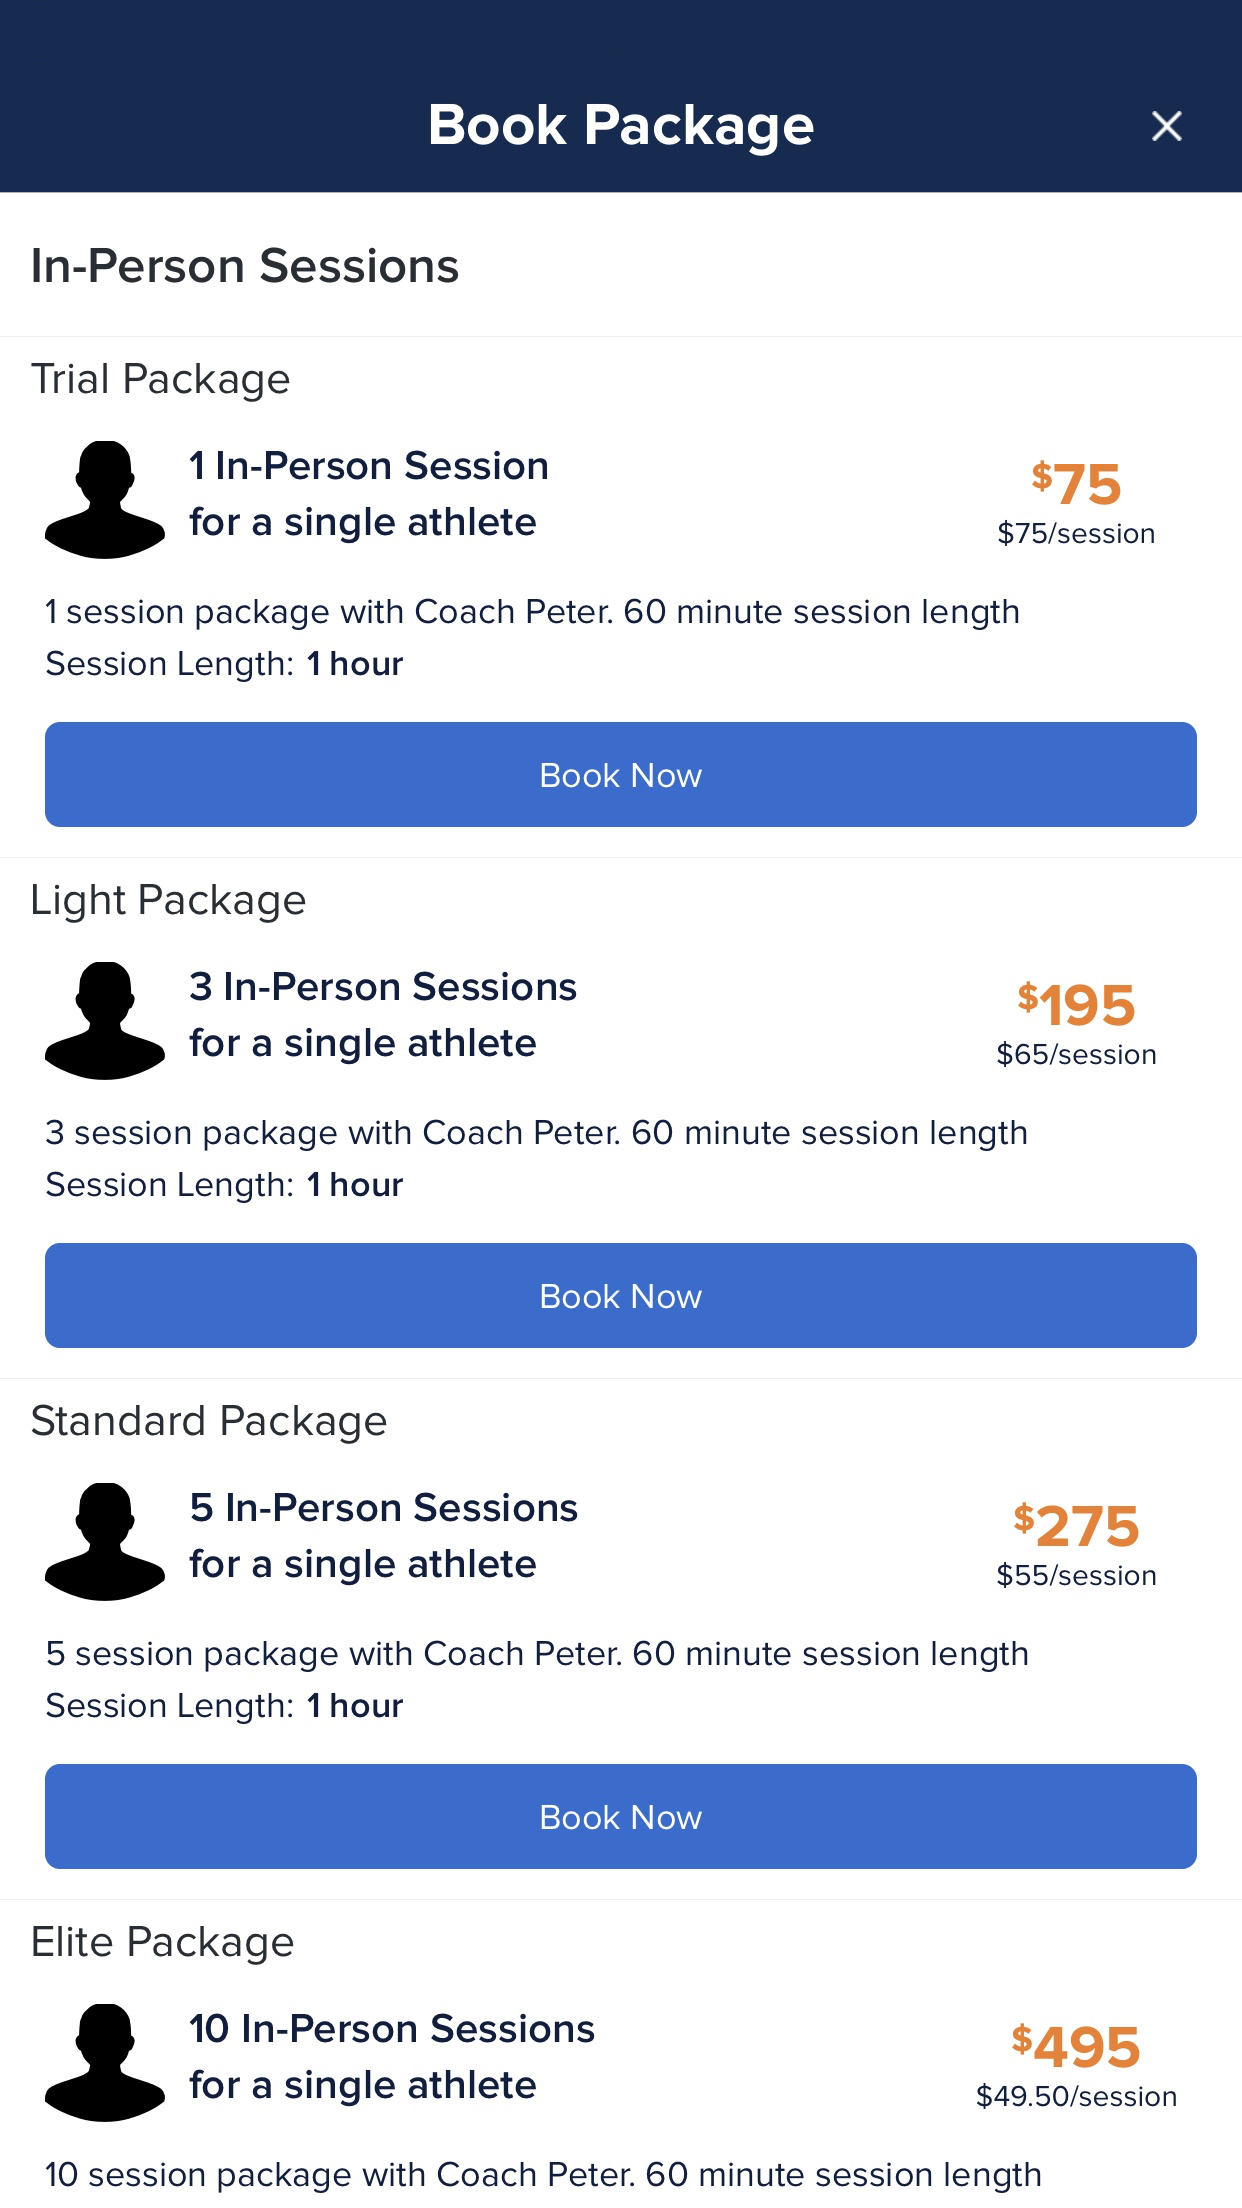Icon: (45, 2002, 168, 2123), (45, 441, 167, 561), (45, 961, 167, 1081), (45, 1482, 167, 1601), (1151, 111, 1183, 143)
Text: (45, 1639, 1028, 1726), (45, 1119, 1027, 1204), (45, 599, 1019, 684), (190, 2012, 594, 2106), (190, 1491, 579, 1586), (190, 971, 578, 1066), (45, 2161, 1040, 2194), (431, 105, 814, 158), (33, 247, 459, 284), (32, 1404, 388, 1445), (190, 507, 537, 544), (32, 884, 306, 925), (190, 450, 547, 481), (33, 1924, 296, 1965), (32, 362, 291, 403), (1011, 2021, 1140, 2068), (1013, 1501, 1139, 1548), (1018, 980, 1134, 1027), (977, 2082, 1177, 2109), (996, 1560, 1156, 1589), (996, 1040, 1156, 1068), (998, 520, 1156, 547), (1031, 459, 1121, 507)
TextButton: (45, 1764, 1200, 1870), (45, 1244, 1198, 1350), (45, 722, 1198, 828)
